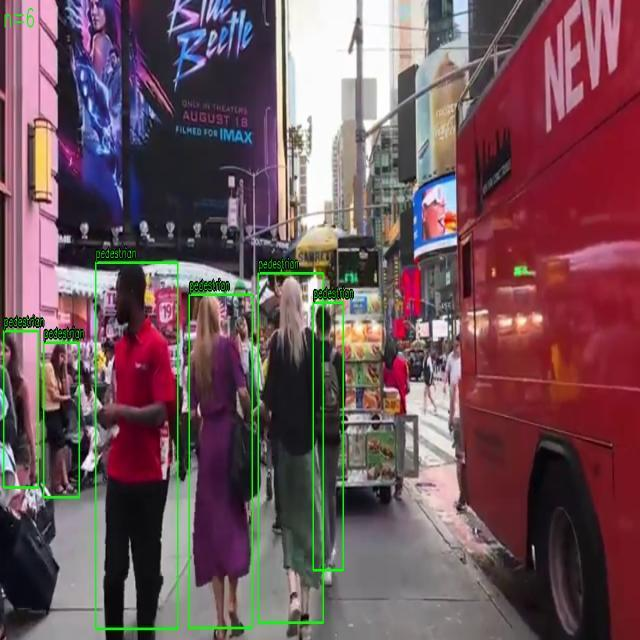person: (95, 262, 178, 630), (258, 273, 324, 623), (189, 294, 253, 628), (313, 302, 343, 571), (44, 342, 80, 498), (4, 331, 38, 488)
